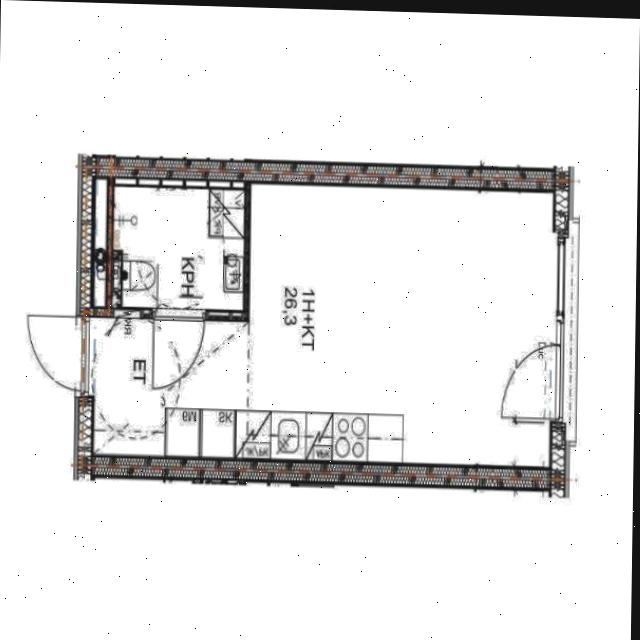room: (109, 178, 246, 310)
